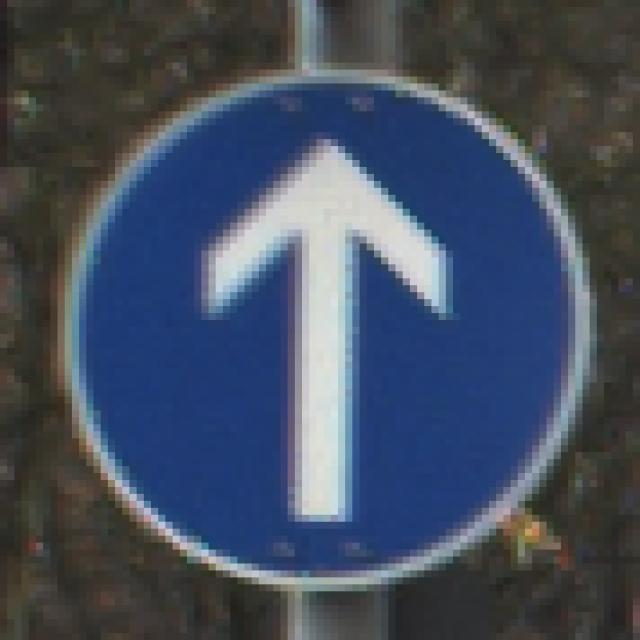compulsary ahead: (46, 59, 606, 602)
